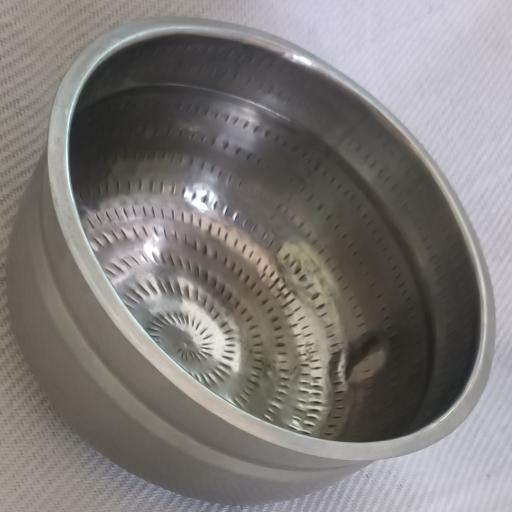vessel: (7, 18, 494, 503)
